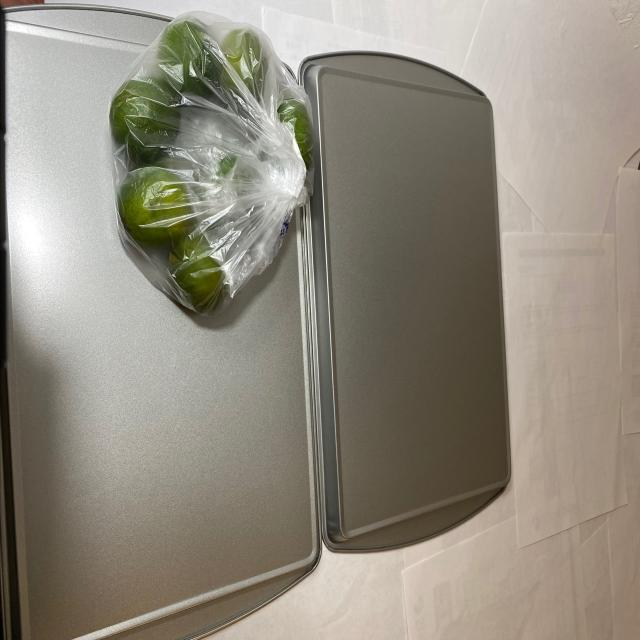lemon: (108, 21, 319, 310)
